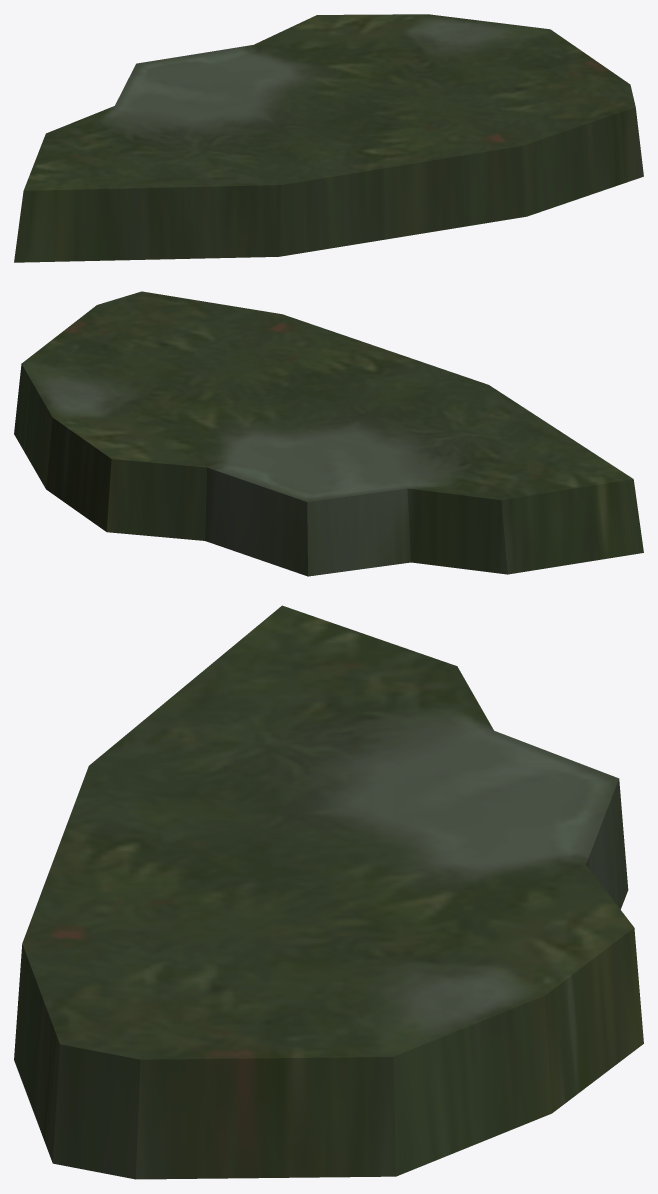
Rendered from yw_newshanlin_manholesuipian_001.FBX.
3 renders of one model, top to bottom at view 1: azimuth 30°, elevation 25°; view 2: azimuth 150°, elevation 25°; view 3: azimuth 270°, elevation 25°, orthographic. The views are drawn at different scales.
Visible parts, largest first — view 1: yw_newshanlin_manholesuipian_001; view 2: yw_newshanlin_manholesuipian_001; view 3: yw_newshanlin_manholesuipian_001.
Boxes of the visible parts, bbox=[...] form: yw_newshanlin_manholesuipian_001: bbox=[14, 14, 643, 262]; yw_newshanlin_manholesuipian_001: bbox=[14, 291, 643, 576]; yw_newshanlin_manholesuipian_001: bbox=[14, 605, 643, 1179].
Size of the model in its own units: 317 by 181 by 36.2.
